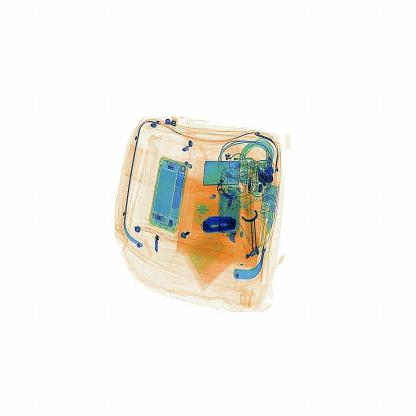scissors: (200, 206, 250, 244)
